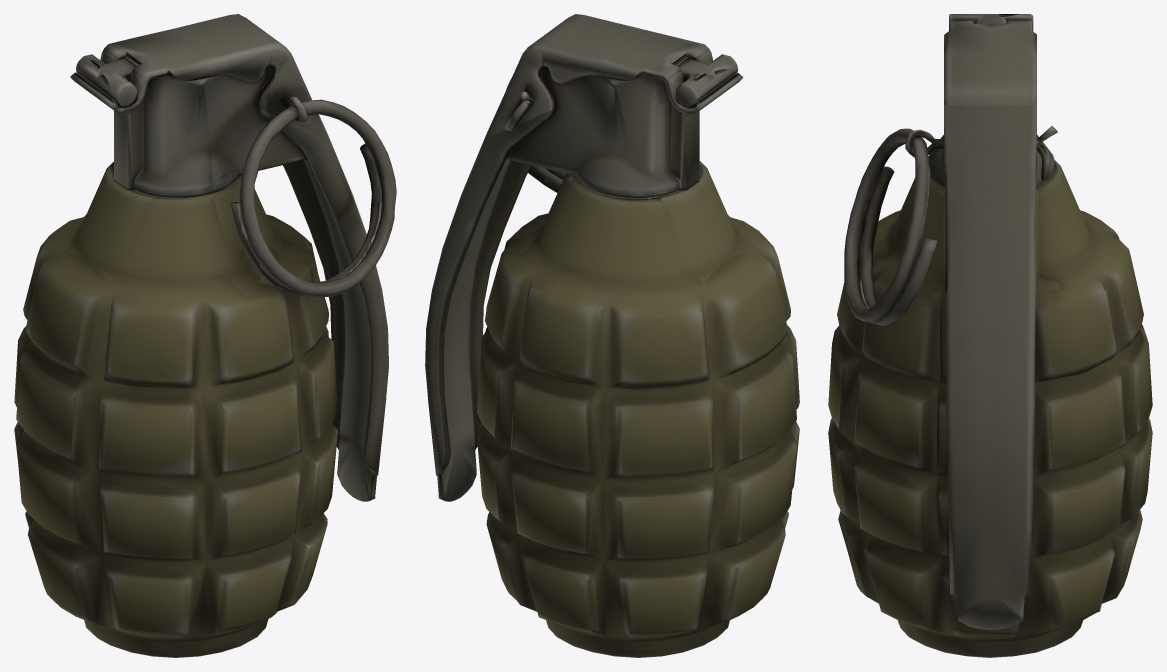
Rendered from grenade+3d+model.glb.
3 views of the same model, side by side, from view 1: azimuth 30°, elevation 25°; view 2: azimuth 150°, elevation 25°; view 3: azimuth 270°, elevation 25° (orthographic).
Parts seen in each view (by area): view 1: tripo_part_0, tripo_part_2, tripo_part_4, tripo_part_1, tripo_part_3; view 2: tripo_part_0, tripo_part_2, tripo_part_4; view 3: tripo_part_0, tripo_part_4, tripo_part_2, tripo_part_1, tripo_part_3, tripo_part_6, tripo_part_5.
Boxes of the visible parts, <box> form: tripo_part_0: <box>14,161,337,657</box>; tripo_part_2: <box>70,14,325,197</box>; tripo_part_4: <box>259,54,388,501</box>; tripo_part_1: <box>239,99,396,297</box>; tripo_part_3: <box>230,143,382,295</box>; tripo_part_0: <box>477,161,799,657</box>; tripo_part_2: <box>488,14,743,197</box>; tripo_part_4: <box>425,54,554,501</box>; tripo_part_0: <box>828,160,1152,657</box>; tripo_part_4: <box>944,105,1036,629</box>; tripo_part_2: <box>928,14,1054,192</box>; tripo_part_1: <box>844,128,930,321</box>; tripo_part_3: <box>858,166,937,326</box>; tripo_part_6: <box>1036,126,1057,180</box>; tripo_part_5: <box>905,129,943,157</box>.
Bounding box in the file's own units: 0.6125 × 1 × 0.5108.
1 material, 1 textured.
